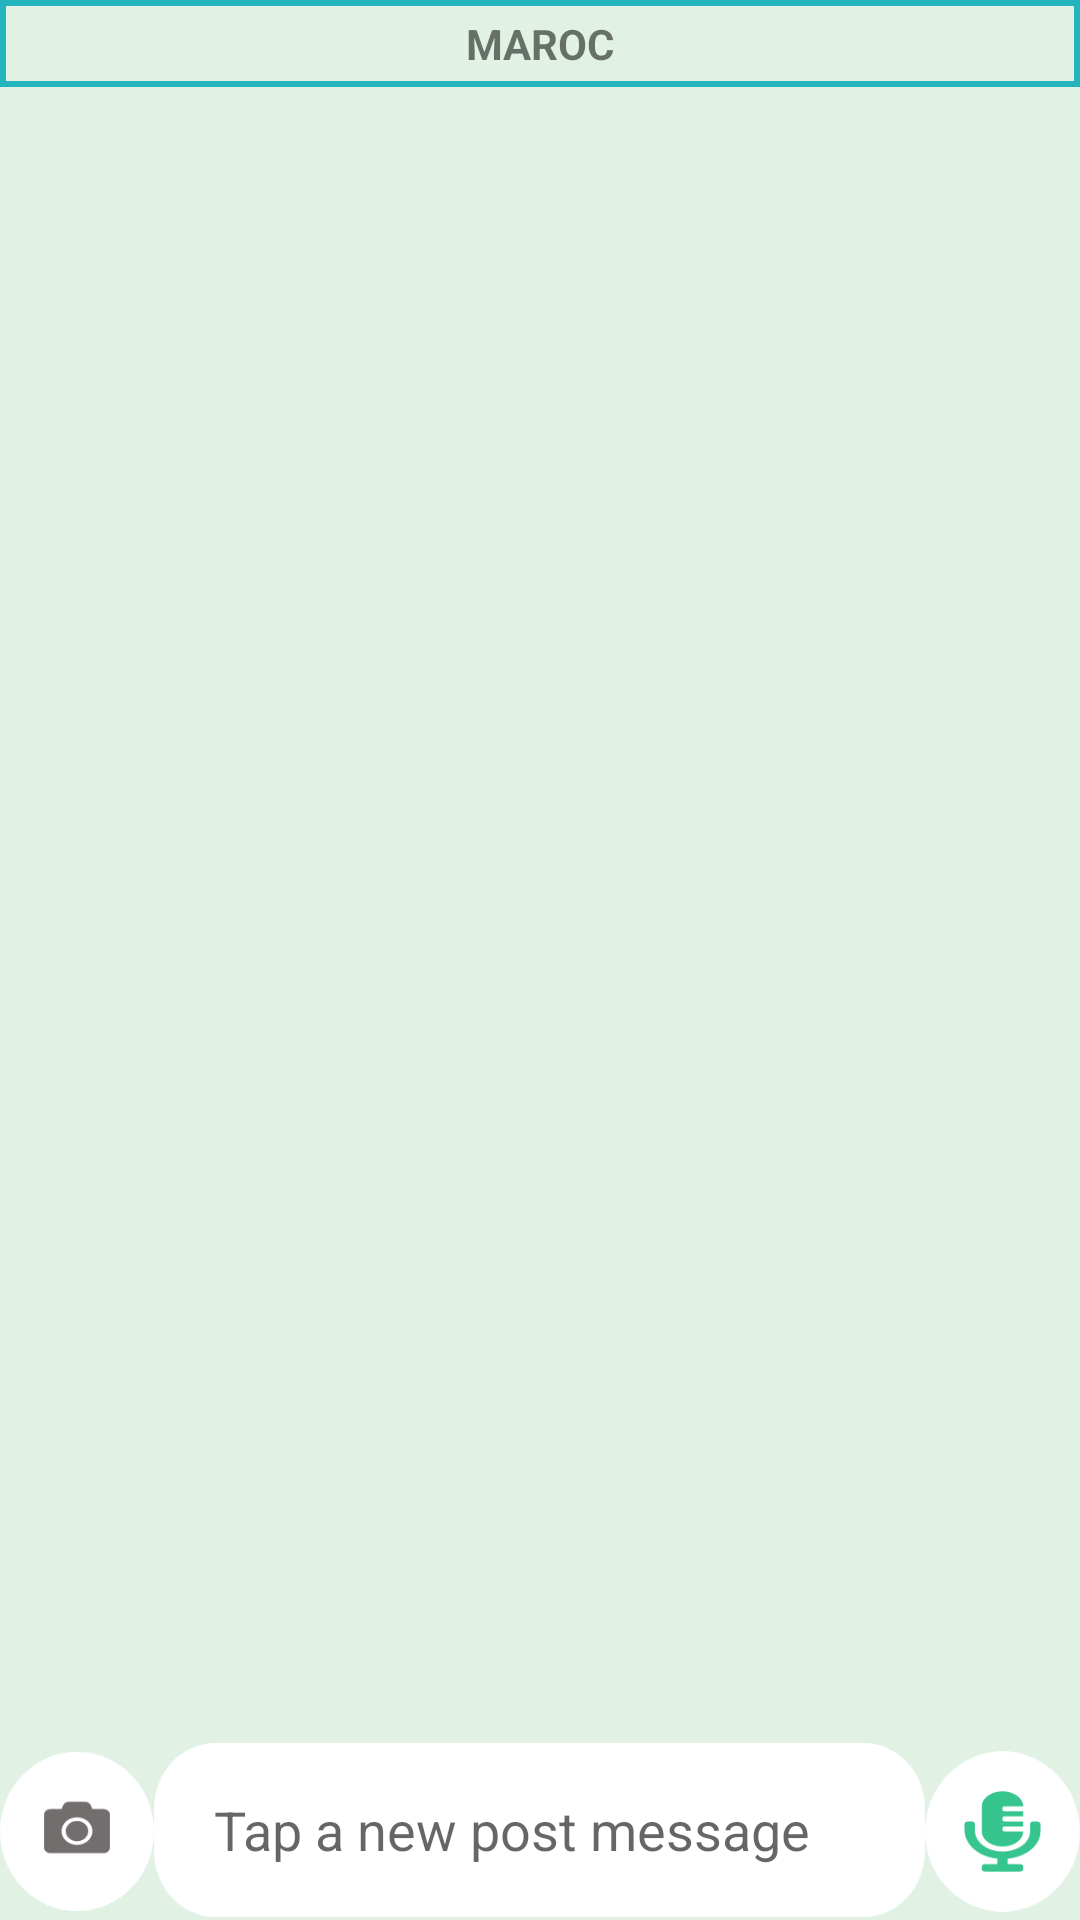

Icons on this 1080px×1920px Android screen, each with its box as [x1=x1, y1=y1, x2=x2, y2=y2]:
cam: [x1=0, y1=1752, x2=154, y2=1911]
vocal: [x1=925, y1=1751, x2=1080, y2=1912]
